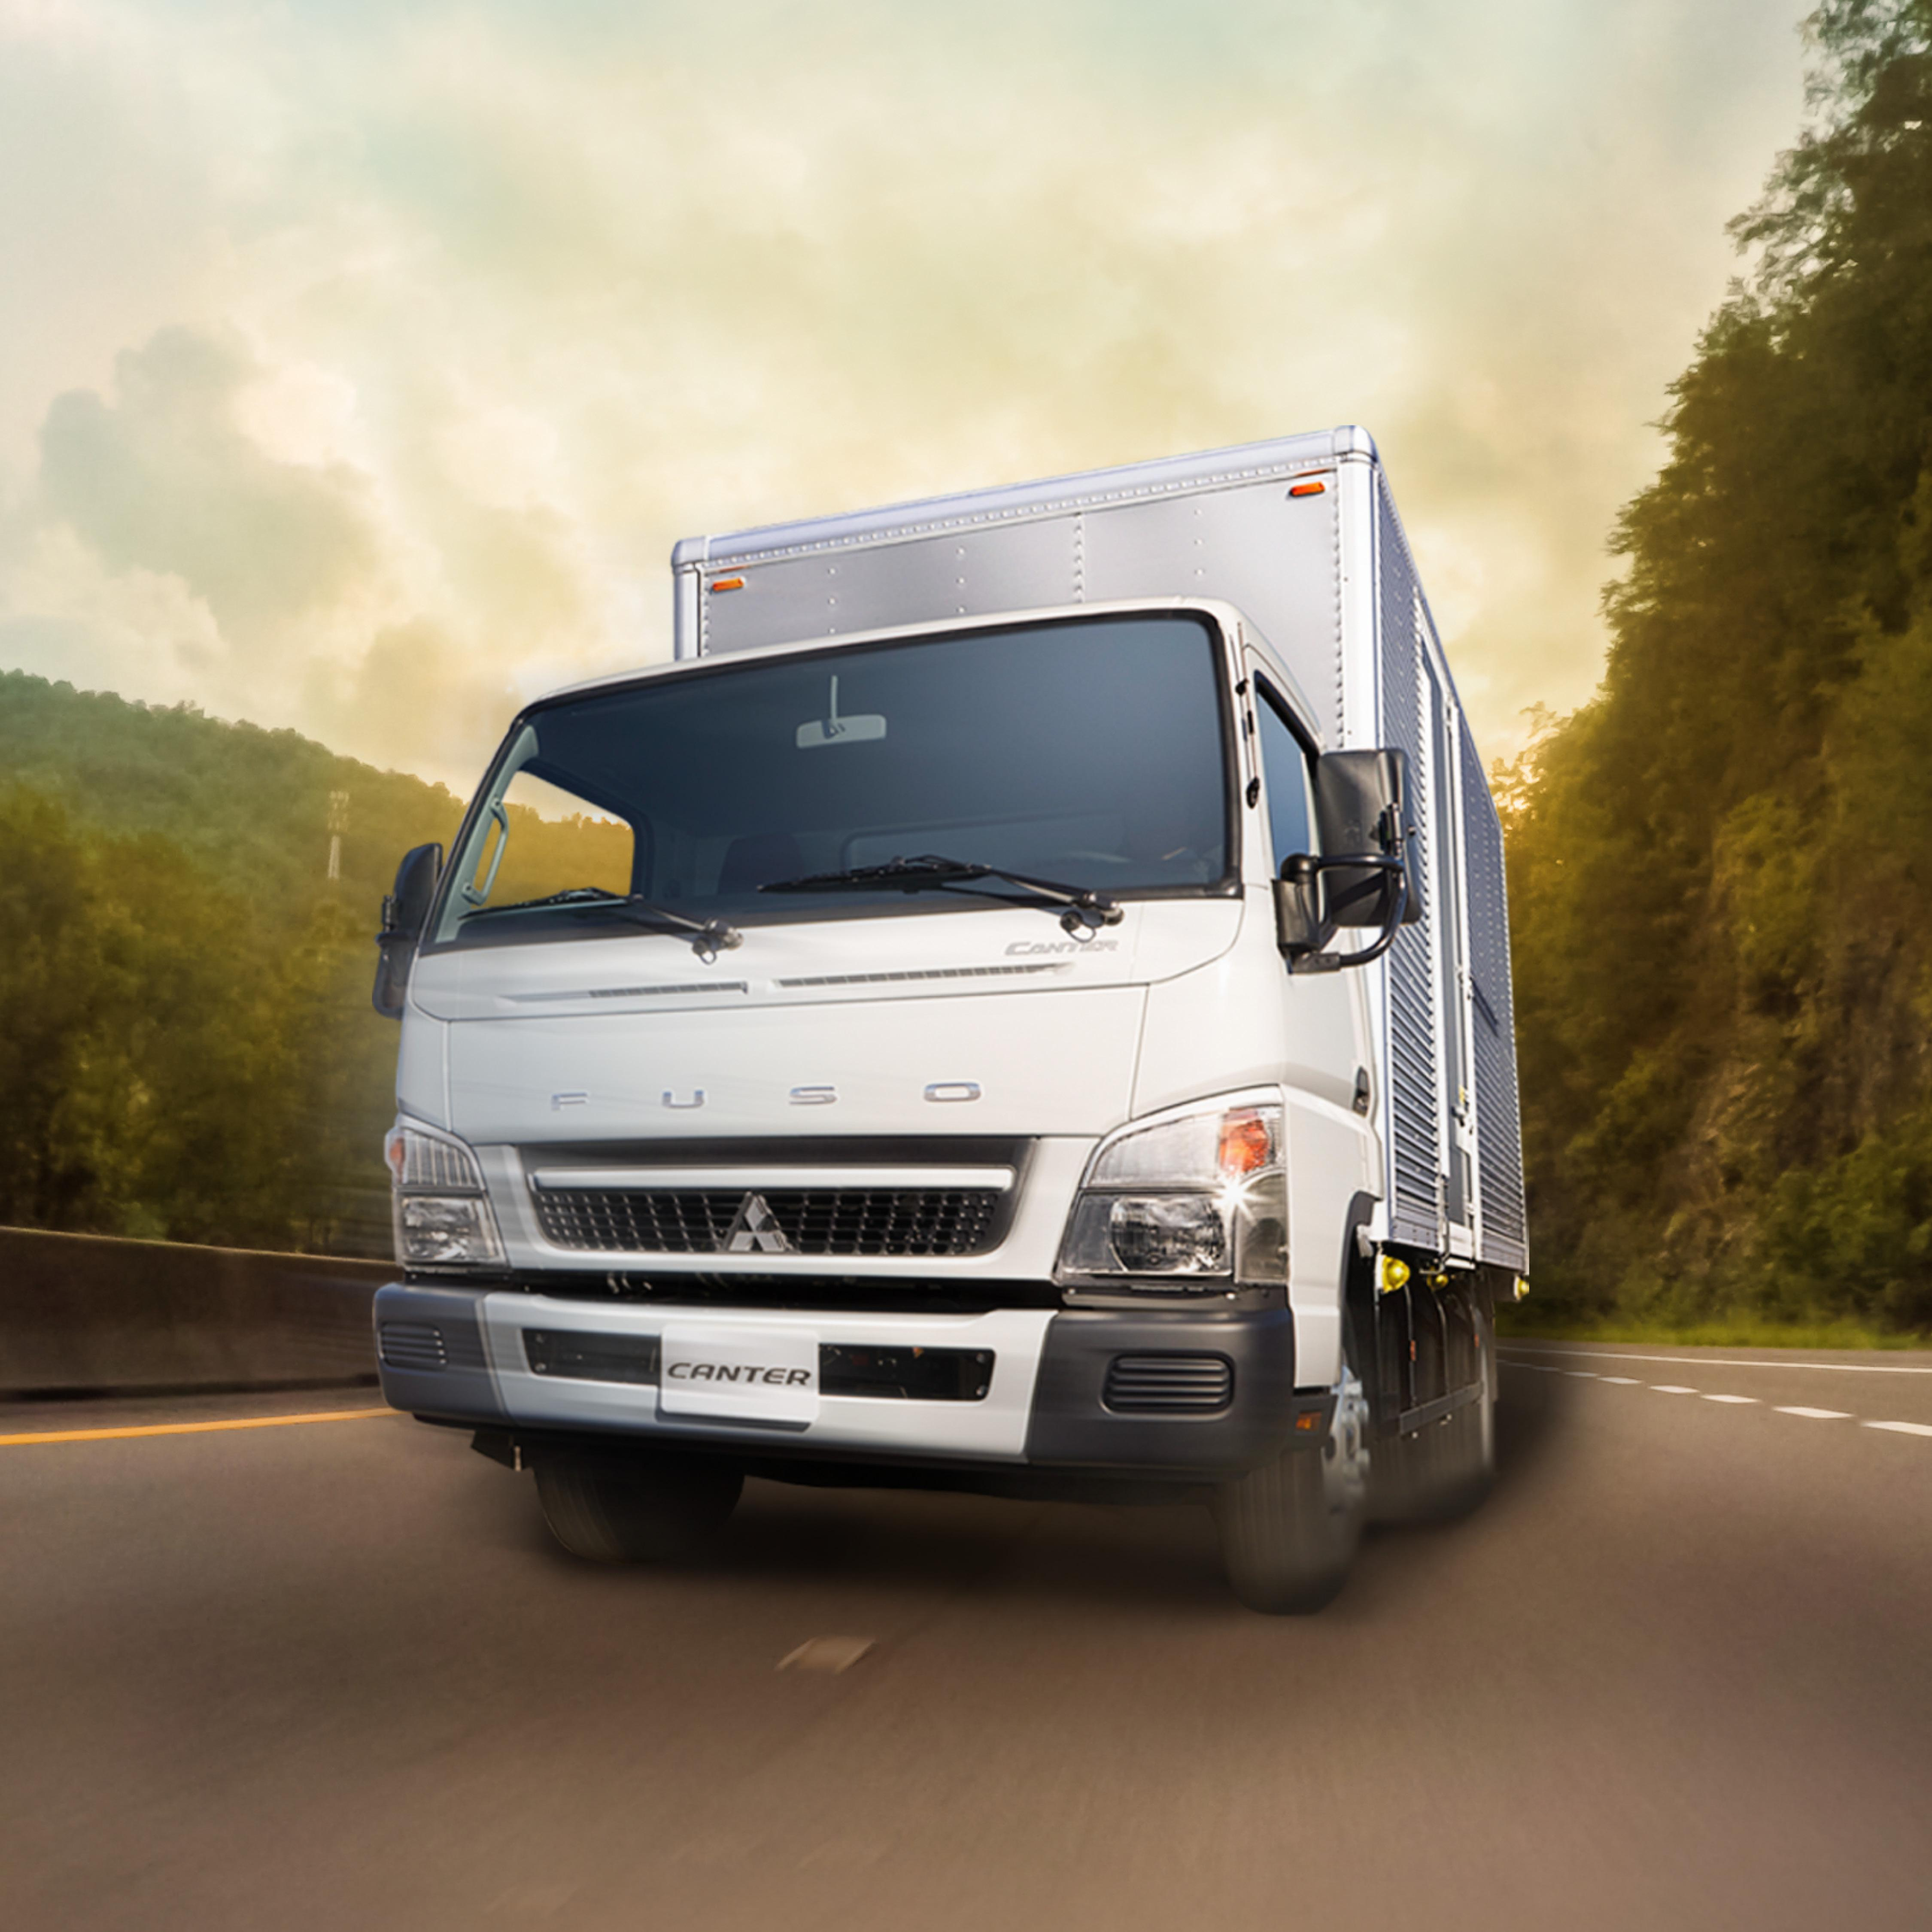truck: (393, 442, 1525, 1619)
